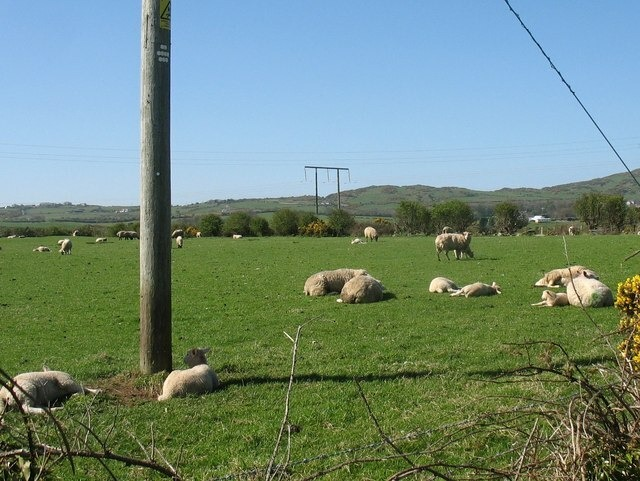grazing: (364, 224, 380, 242), (58, 238, 73, 255)
resting: (1, 364, 104, 411), (158, 344, 222, 400), (299, 267, 387, 303), (562, 271, 619, 308), (452, 280, 502, 300), (528, 290, 568, 308)
standing: (435, 229, 472, 261)
